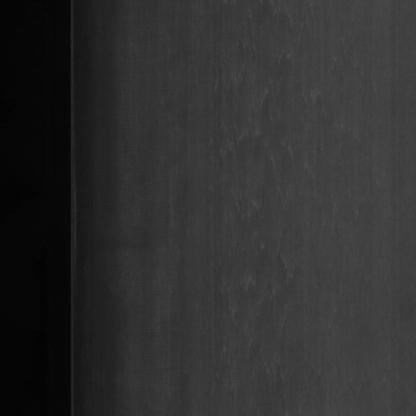silk_spot: (209, 190, 300, 353), (212, 57, 304, 168)
